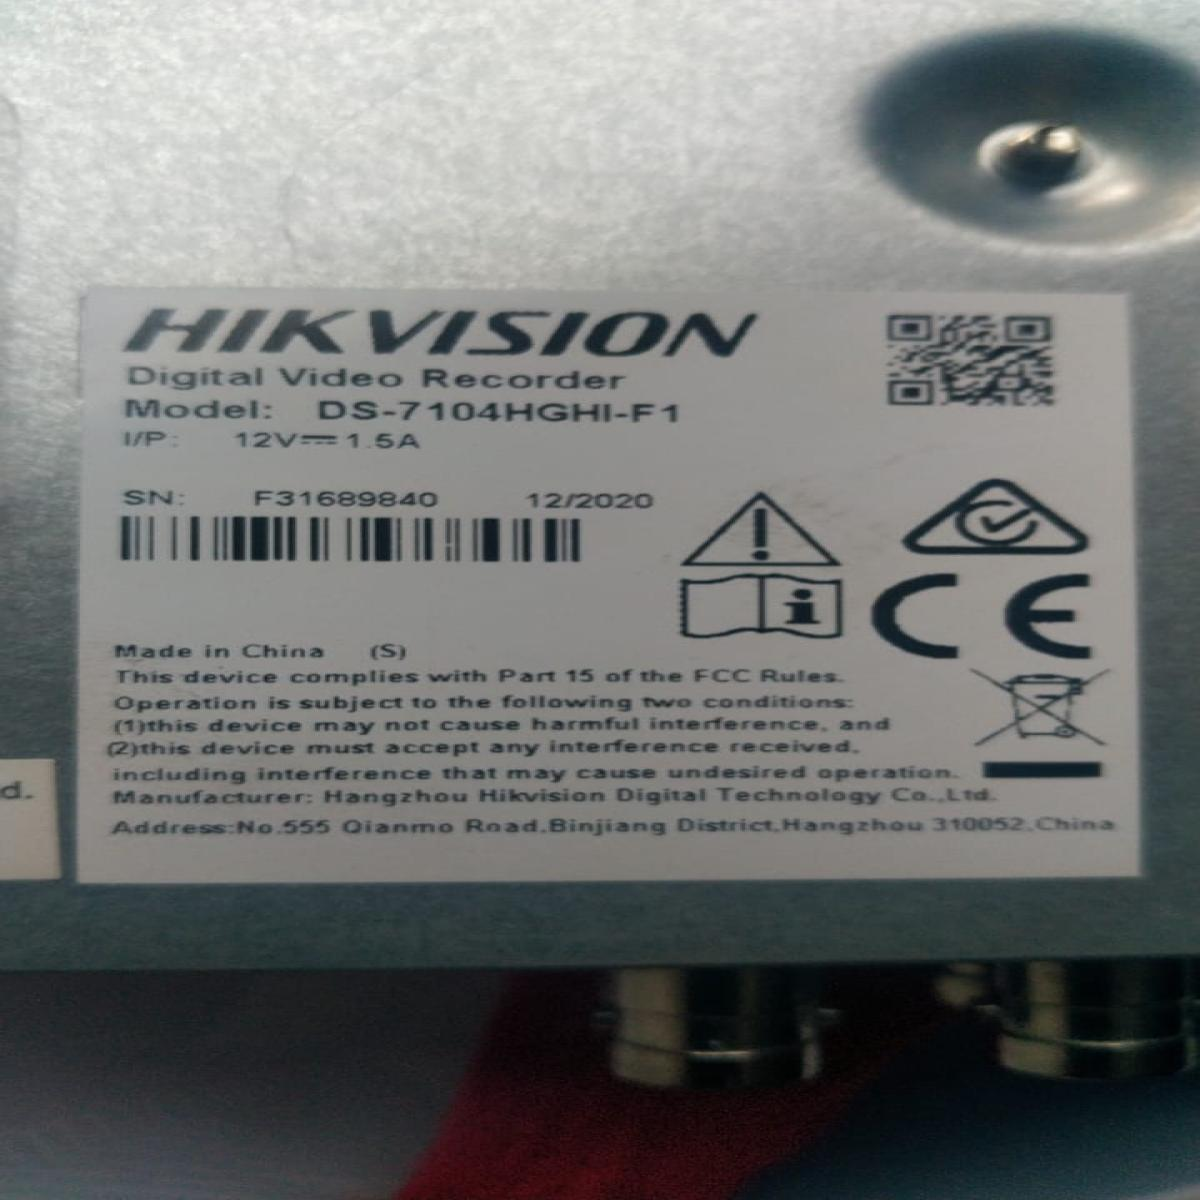Barcode: (103, 510, 593, 571)
Label: (87, 290, 1136, 870)
